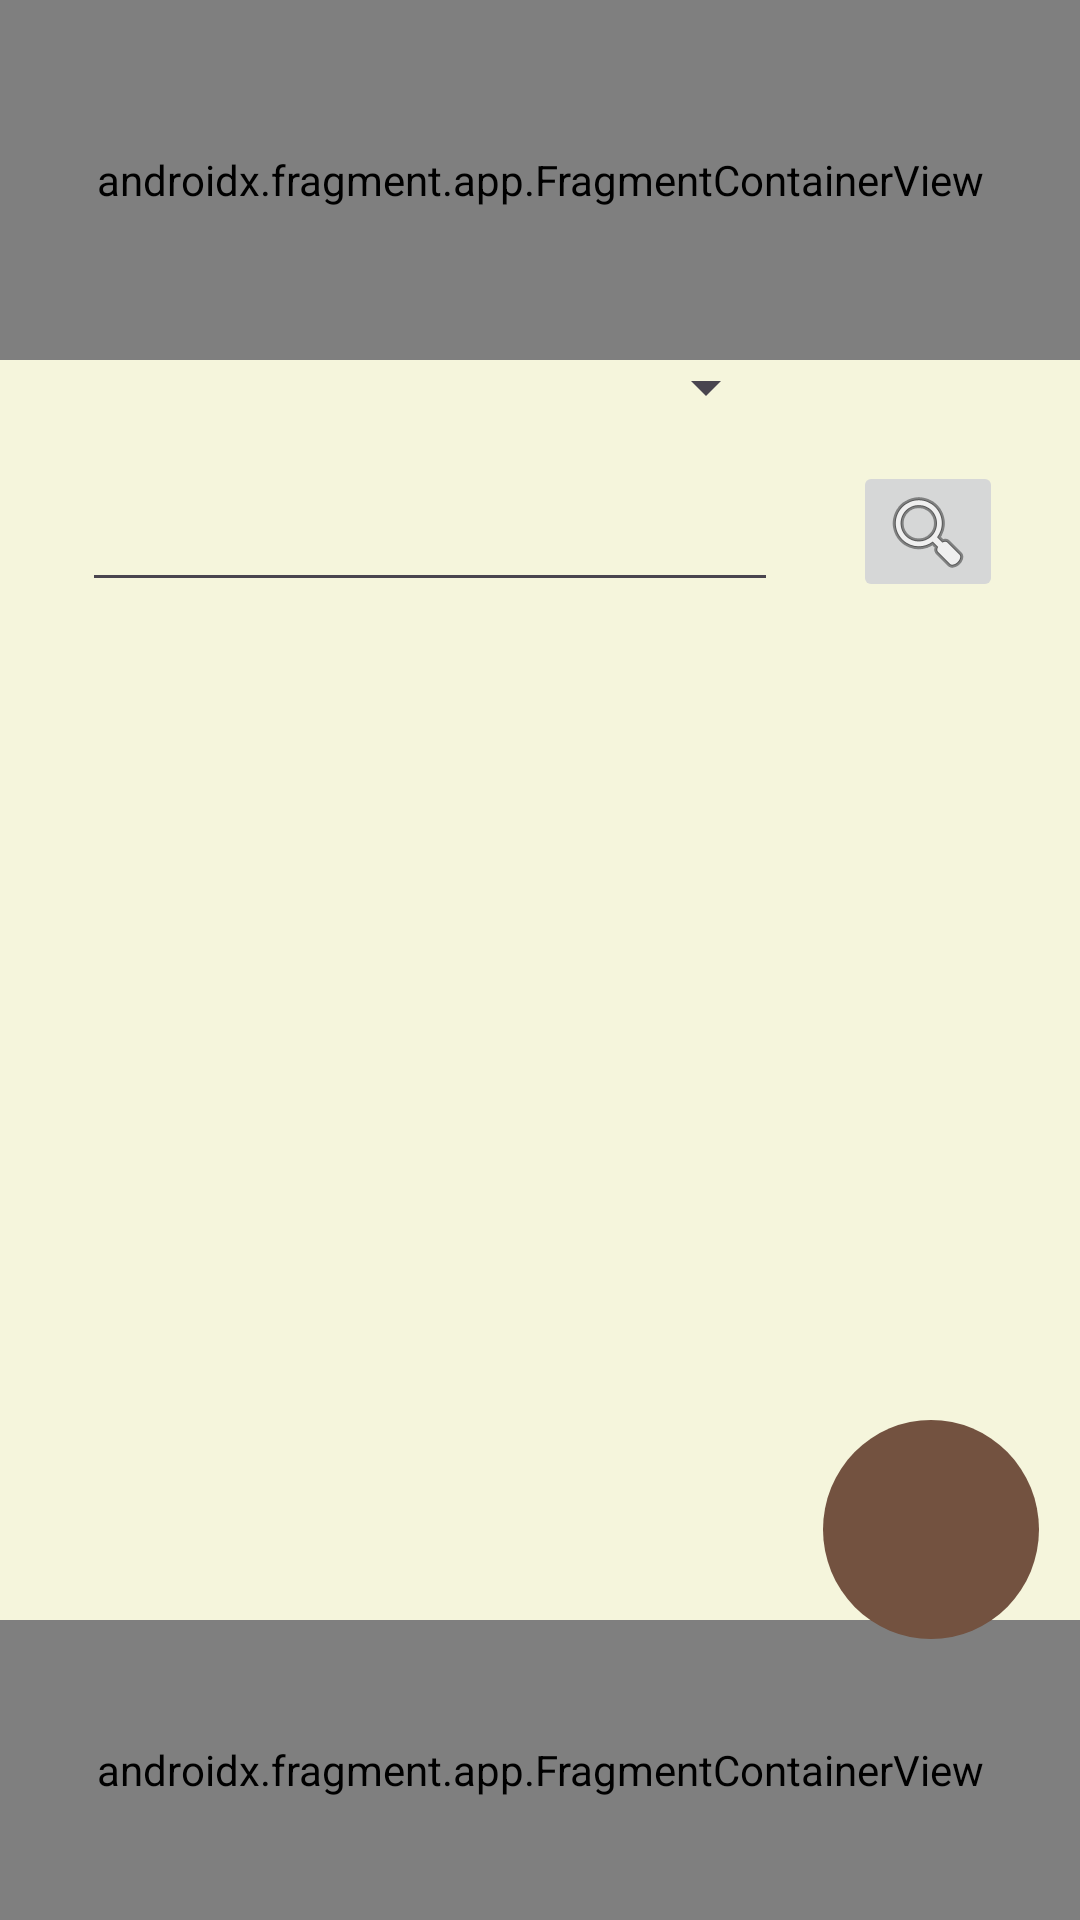

Point at icon controls on the screen. Image size 1080 x 1920, points as (x=x, y=y).
search: (x=928, y=531)
